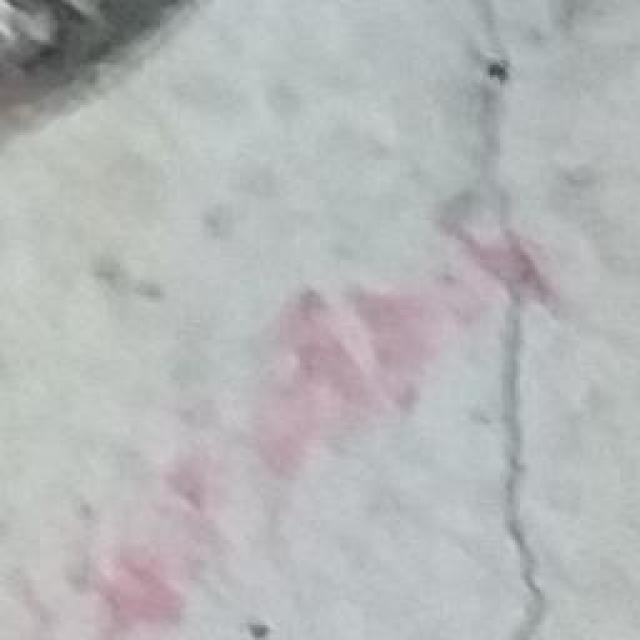Longitudinal: (449, 0, 557, 640)
